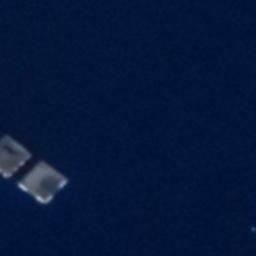square_cover: (14, 156, 74, 210), (1, 130, 37, 186)
